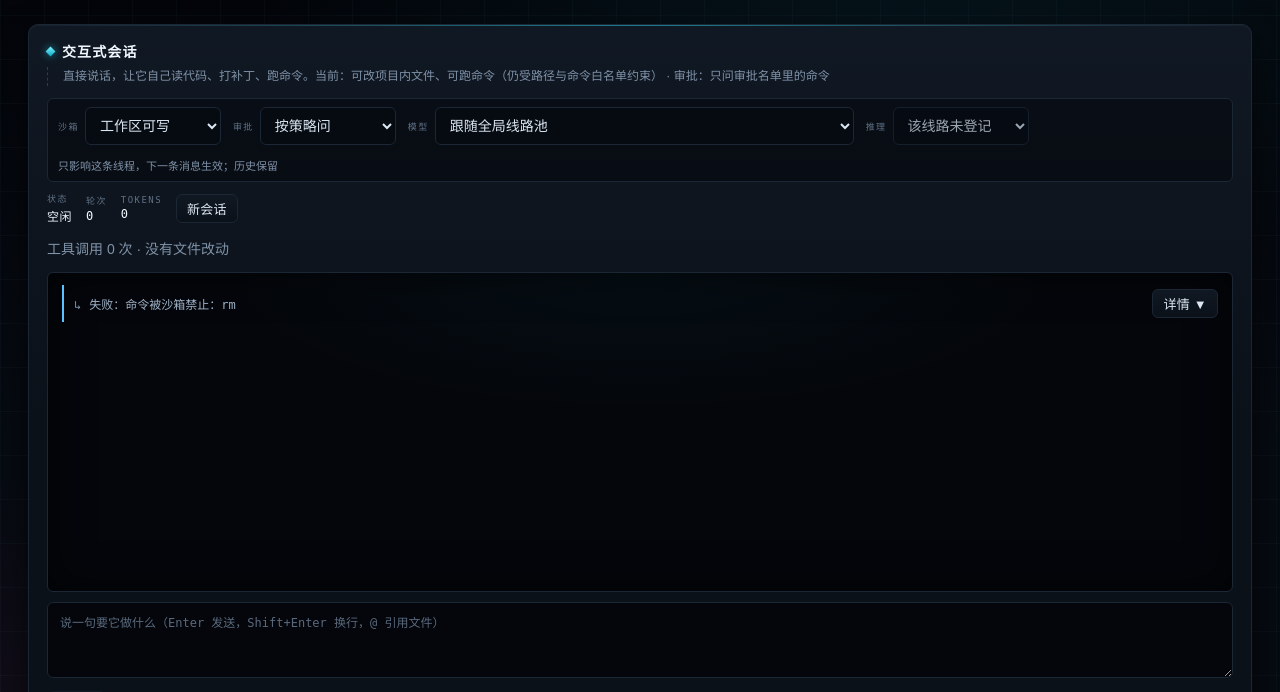
it: 会话页（ChatPage） › 工具结果的详情默认收起，点开才看全文
Click the button "详情 ▼". click: coordinates (1185, 304)
box: left=1152, top=289, right=1218, bottom=318
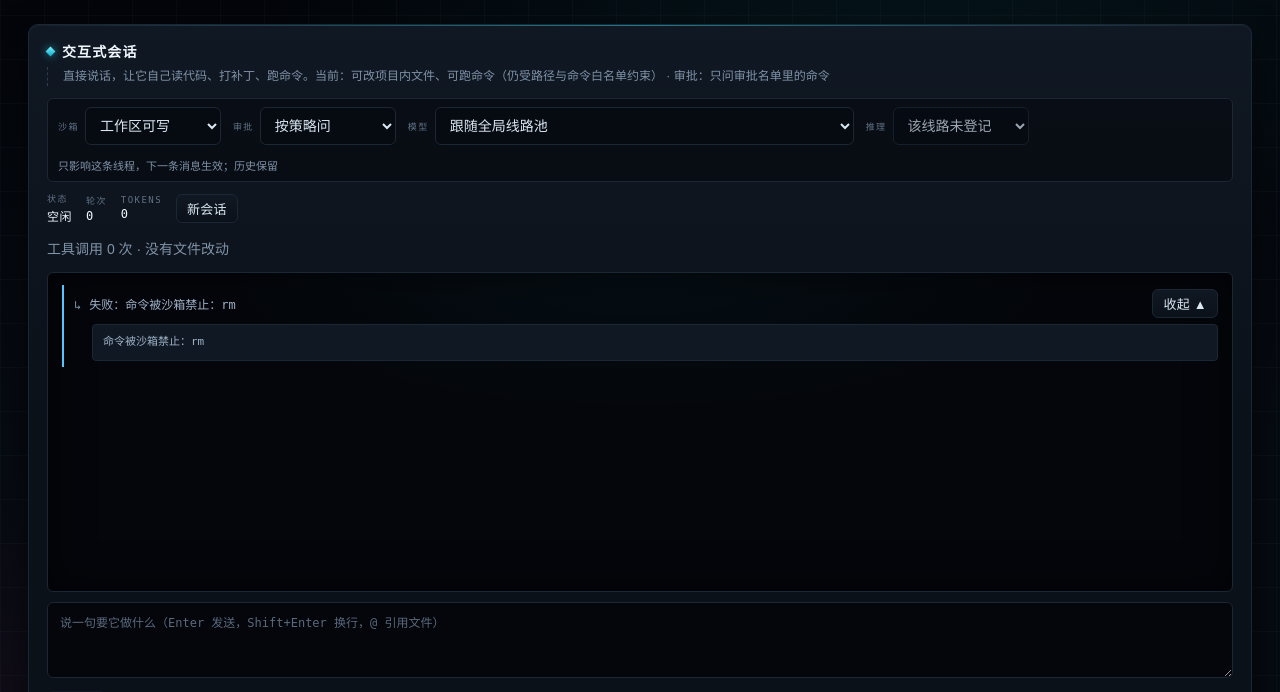
Expected: the button "收起 ▲" is shown, left=1152, top=289, right=1218, bottom=318
